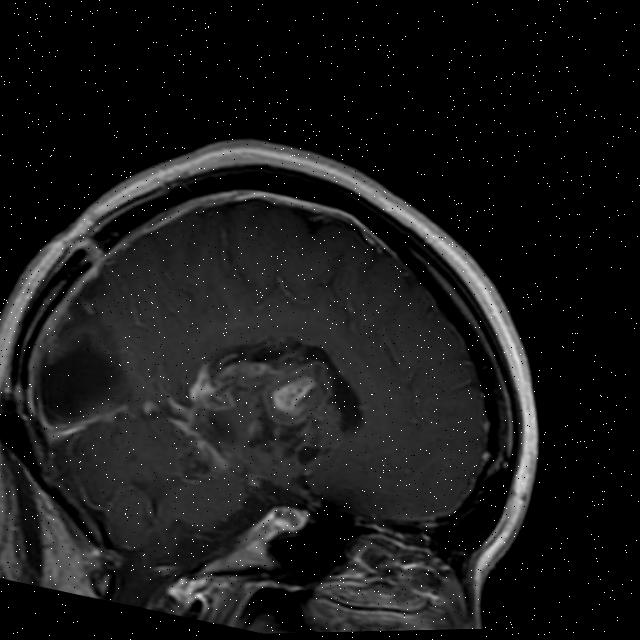Glioma: (178, 328, 347, 440)
Pituitary: (268, 500, 312, 537)
